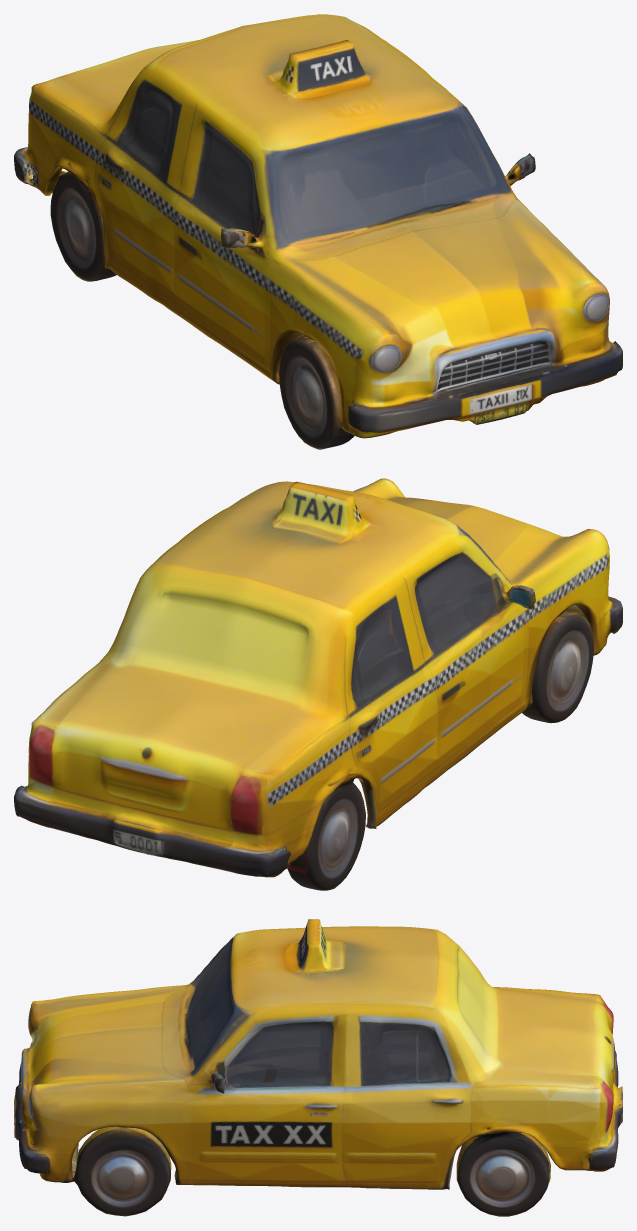
File: taxi.glb
3 views of the same model, one above another, from view 1: azimuth 30°, elevation 25°; view 2: azimuth 150°, elevation 25°; view 3: azimuth 270°, elevation 25° (orthographic). The views are drawn at different scales.
Bounding box in the file's own units: 0.9838 × 0.8503 × 2.
1 material, 1 textured.
